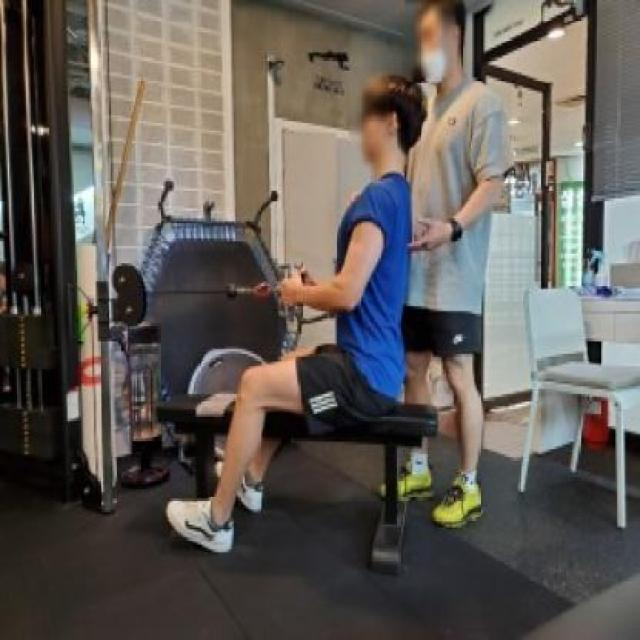Seated Cable Rows: (0, 0, 446, 588)
